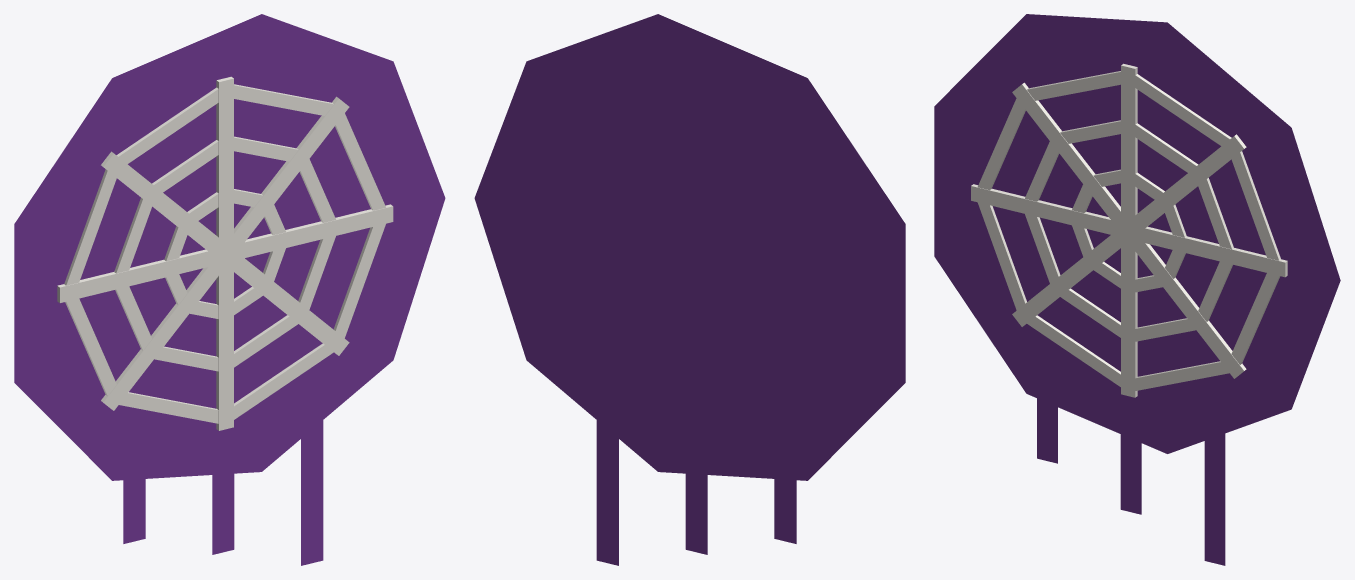
The model's file is tag_tisseuses.glb.
3 views of the same model, side by side, from view 1: azimuth 30°, elevation 25°; view 2: azimuth 150°, elevation 25°; view 3: azimuth 330°, elevation 25° (orthographic). The views are drawn at different scales.
Parts seen in each view (by area): view 1: group_0, group_5; view 2: group_0; view 3: group_0, group_5.
Part boxes in pixels (x1,y1,x2,y2): group_0: [14, 14, 445, 565]; group_5: [57, 76, 393, 430]; group_0: [474, 14, 905, 565]; group_0: [934, 14, 1340, 565]; group_5: [971, 63, 1287, 397].
Size of the model in its own units: 3.88 by 4.83 by 0.0503.
